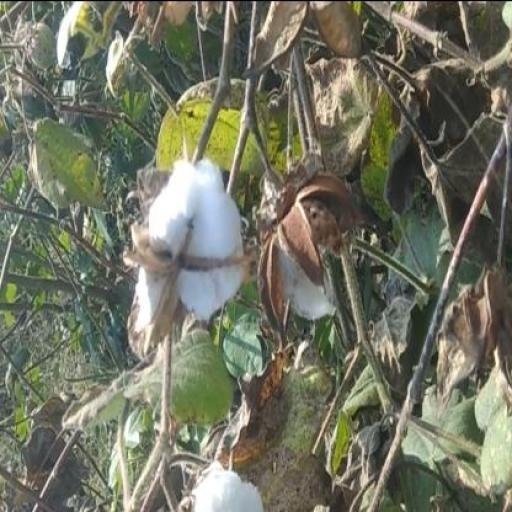cotton_ready: (134, 161, 265, 353)
